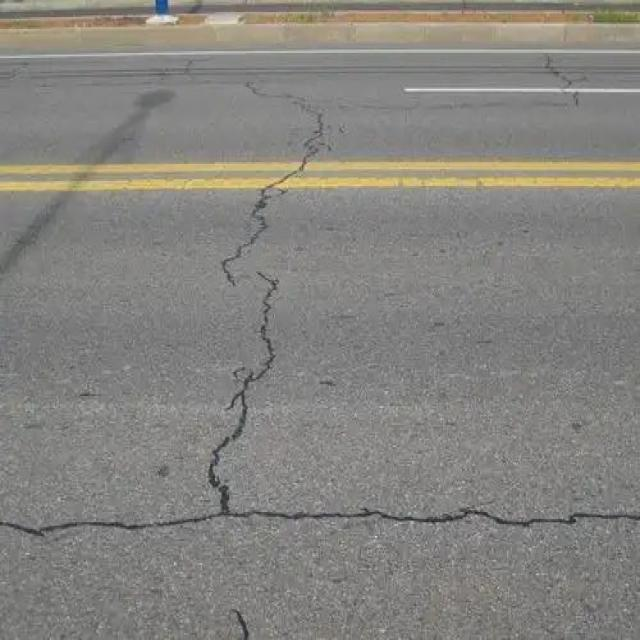Pothole: (224, 67, 347, 517), (6, 516, 639, 532)
